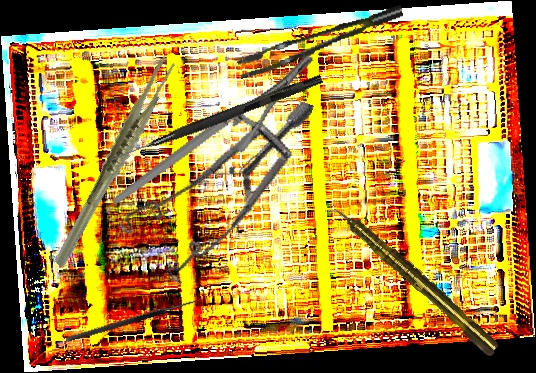Handpiece: (324, 196, 504, 360)
Hook Surgical: (110, 71, 324, 167), (63, 287, 207, 345)
Needle Holder: (88, 51, 338, 205)
Speculum: (107, 56, 314, 306)
Tissue Forceps: (18, 54, 209, 270), (233, 5, 409, 79)
